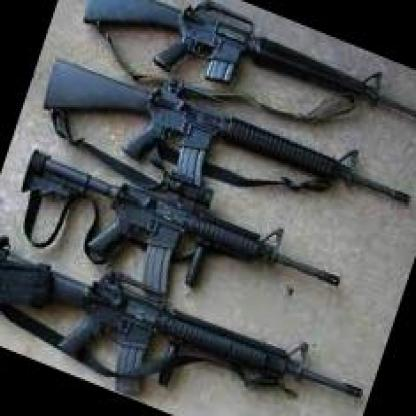rifle: (26, 31, 416, 266), (0, 128, 379, 364), (0, 231, 361, 416), (72, 0, 416, 167)
